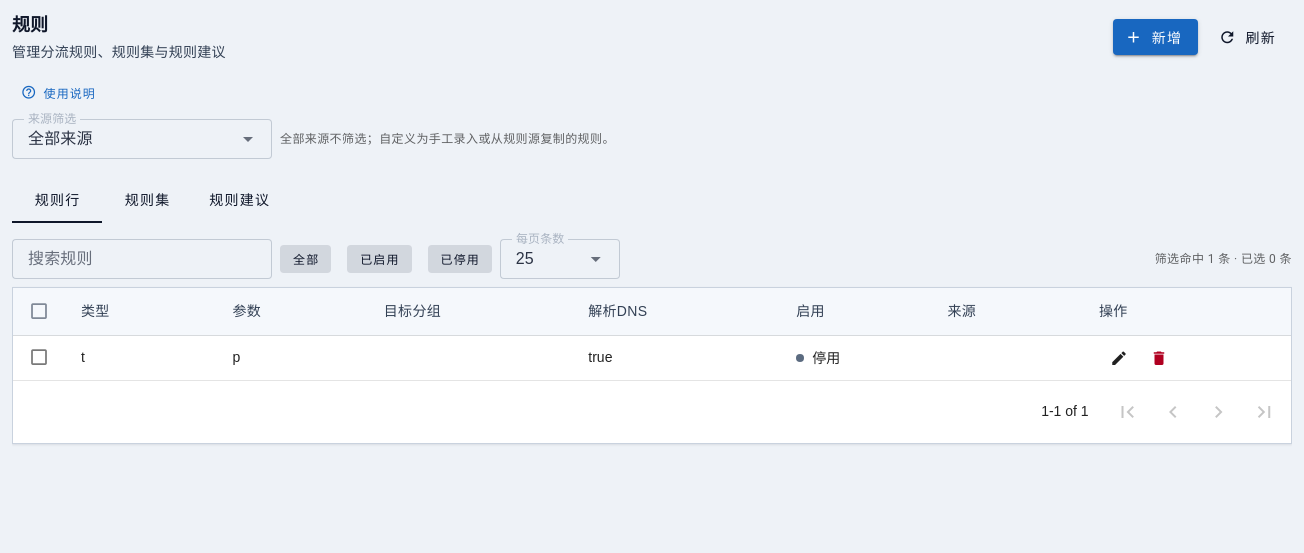
Scenario: RulesPage › coverage: AutoApply status dot / disabled provider / null source
This screenshot has width=1304, height=553.
Click the tab "规则集" at (147, 199), box [102,175,192,223]
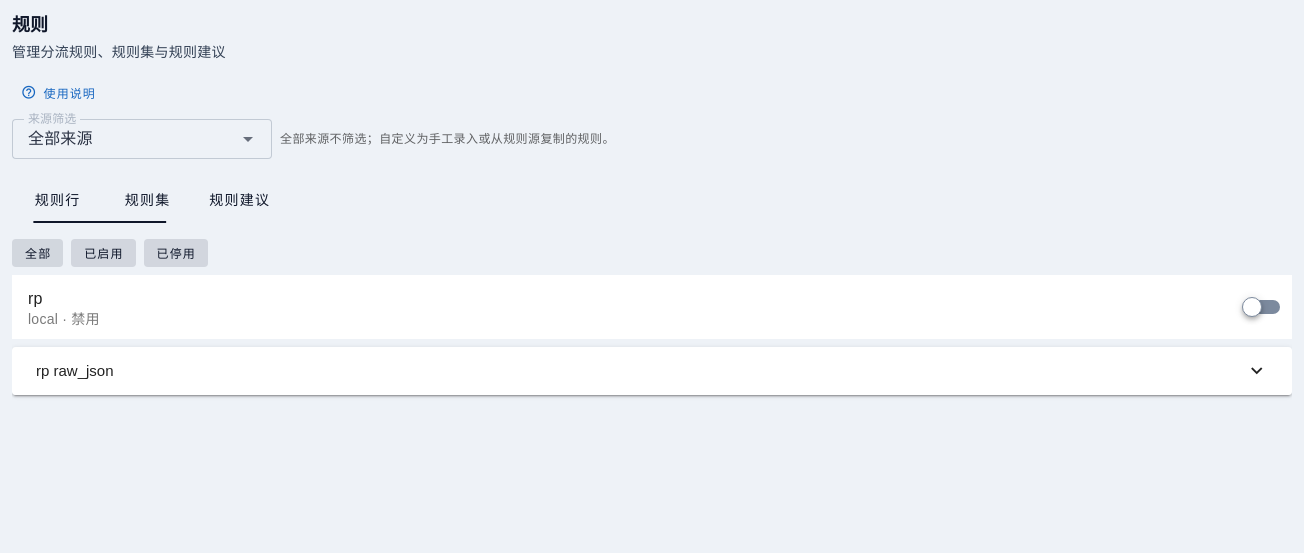
Click the tab "规则建议" at (239, 199), box [192,175,286,223]
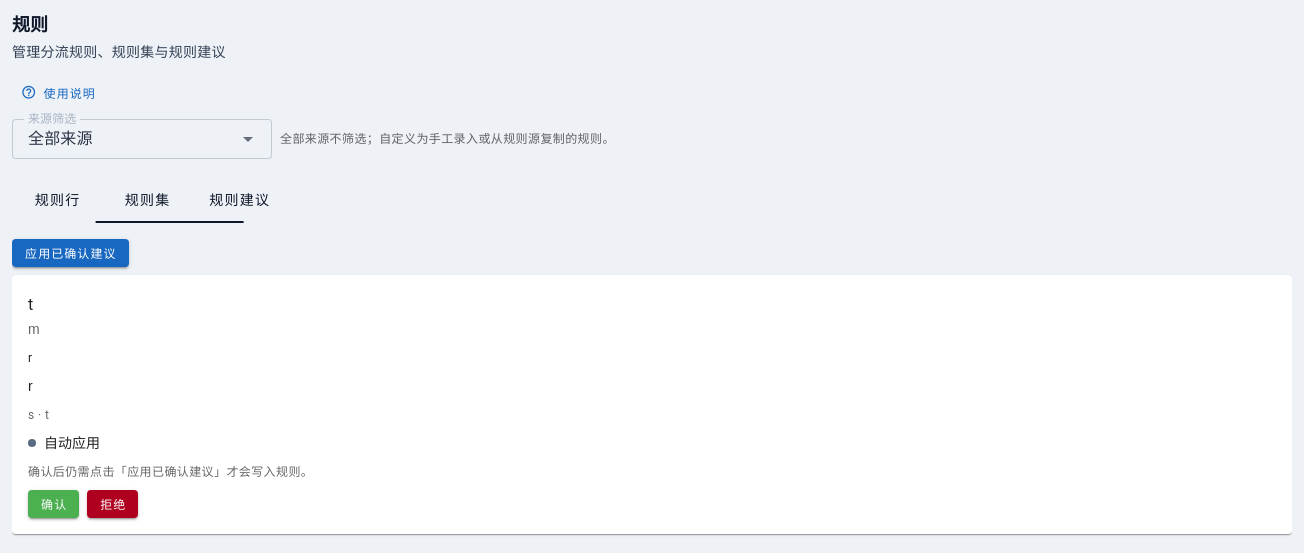
Expected: the text "自动应用" is shown, [44,433,100,454]
